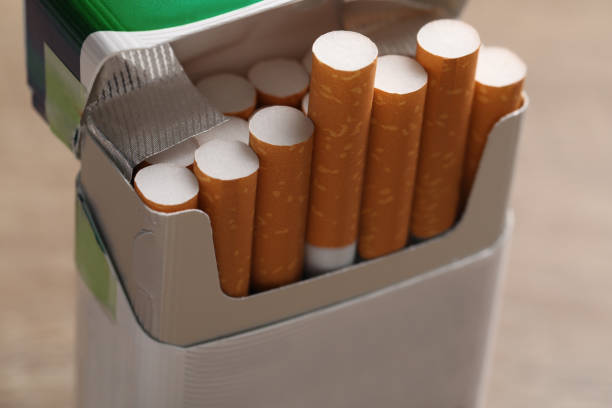cigarette: (22, 0, 531, 408), (309, 27, 379, 281), (407, 17, 482, 247), (353, 51, 429, 265), (456, 46, 528, 225), (248, 102, 314, 292), (194, 138, 260, 299), (132, 161, 200, 213), (246, 56, 311, 103), (195, 73, 257, 116)
